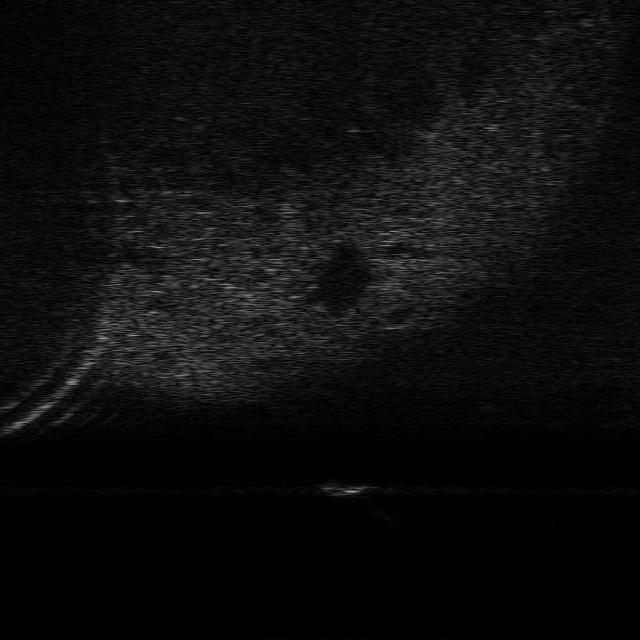cube: (316, 479, 376, 499)
